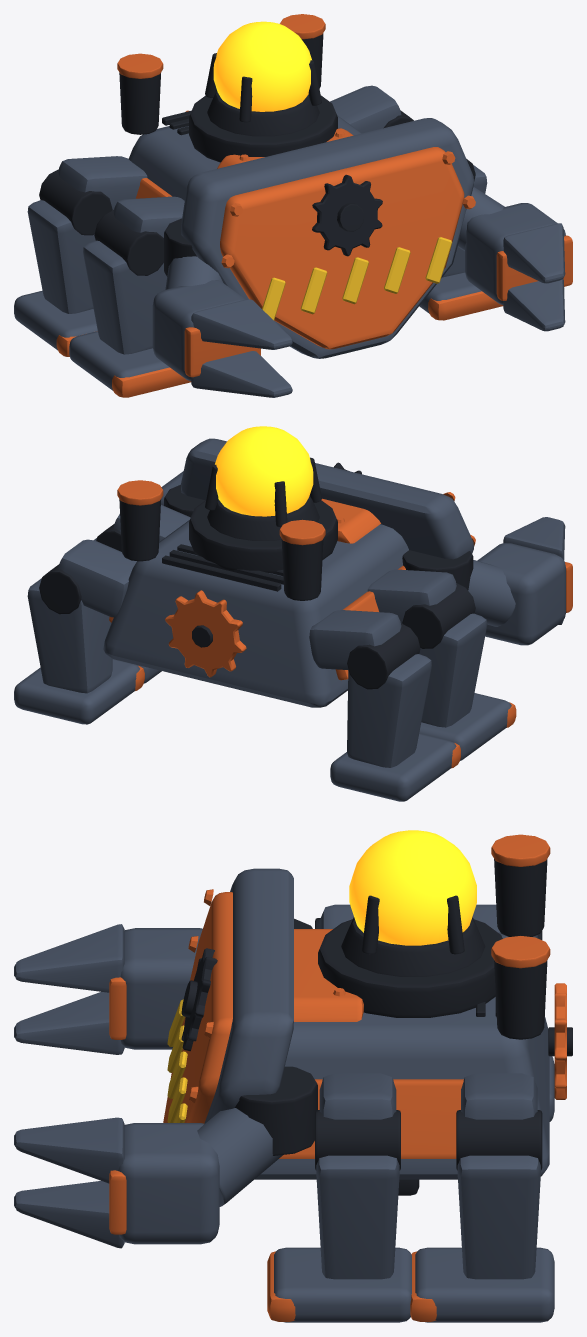
File: bulwark.fbx
The picture shows the model from 3 angles, top to bottom: view 1: azimuth 30°, elevation 25°; view 2: azimuth 150°, elevation 25°; view 3: azimuth 270°, elevation 25°; orthographic projection. The views are drawn at different scales.
Parts seen in each view (by area): view 1: Shield, Legs, Dark, Body, Arm_R, Arm_L, Core, Trim; view 2: Legs, Body, Dark, Arm_R, Shield, Core; view 3: Legs, Dark, Body, Shield, Arm_L, Arm_R, Core, Trim.
Boxes of the visible parts, left/top/right/bottom form: Shield: left=56, top=14, right=572, bottom=397; Legs: left=14, top=85, right=487, bottom=390; Dark: left=39, top=33, right=475, bottom=276; Body: left=128, top=115, right=473, bottom=358; Arm_R: left=152, top=256, right=292, bottom=397; Arm_L: left=457, top=186, right=565, bottom=331; Core: left=213, top=21, right=311, bottom=111; Trim: left=262, top=237, right=452, bottom=320; Legs: left=14, top=505, right=511, bottom=801; Body: left=103, top=438, right=473, bottom=707; Dark: left=39, top=457, right=475, bottom=689; Arm_R: left=468, top=517, right=565, bottom=645; Shield: left=109, top=480, right=572, bottom=768; Core: left=215, top=426, right=313, bottom=516; Legs: left=274, top=904, right=554, bottom=1322; Dark: left=181, top=859, right=572, bottom=1195; Body: left=204, top=868, right=549, bottom=1179; Shield: left=109, top=834, right=566, bottom=1321; Arm_L: left=14, top=1108, right=282, bottom=1248; Arm_R: left=14, top=924, right=202, bottom=1054; Core: left=349, top=830, right=476, bottom=945; Trim: left=167, top=999, right=187, bottom=1122.
Bounding box in the file's own units: 9.56 × 6.6 × 9.1.
